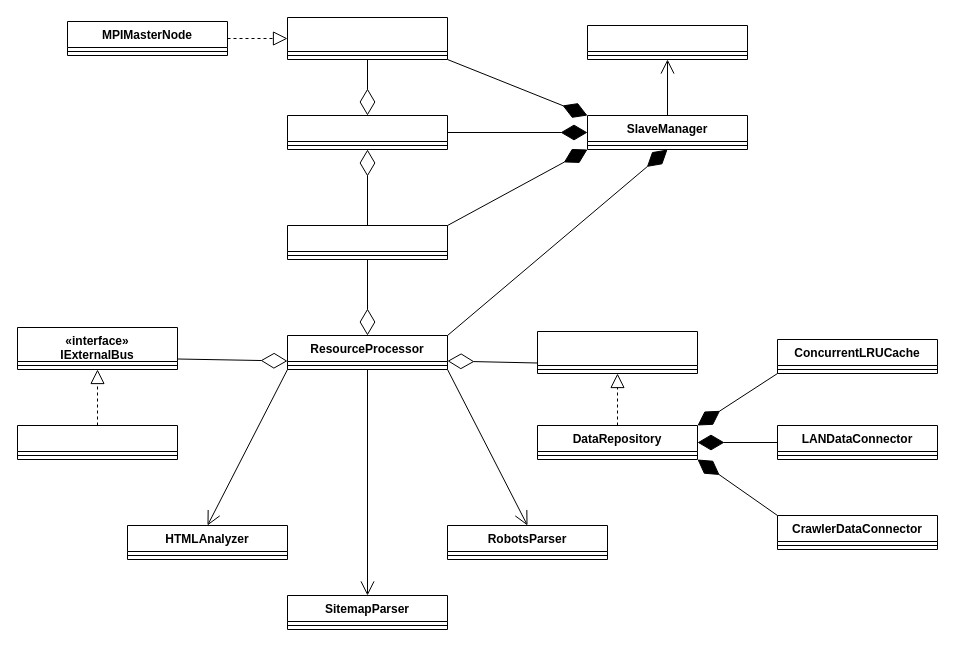
This 955x647 diagram has some shape labels left out. The centre of each missing label's shape, as x and y in pixels:
AMQPBus: the point at 97,442
Config: the point at 667,42
ResourcesDistributor: the point at 367,132
ResourcesRepository: the point at 367,242
«interface» IDataRepository: the point at 617,352
«interface» IMasterNode: the point at 367,38
